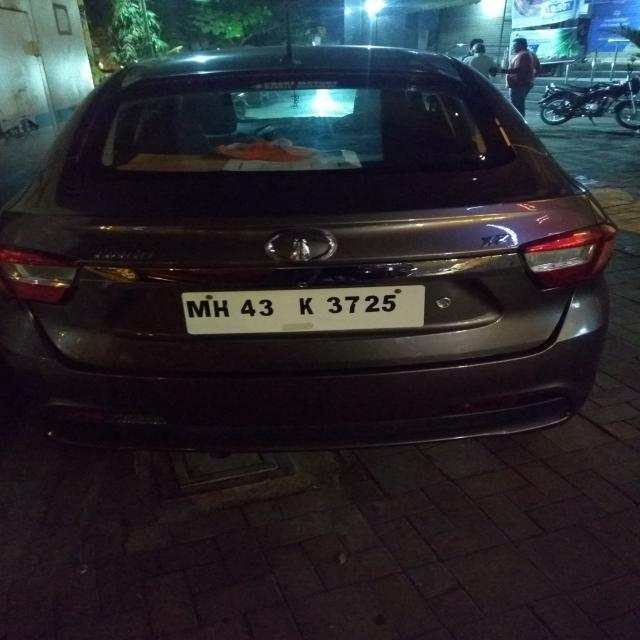Number-Plate: (185, 287, 427, 327)
